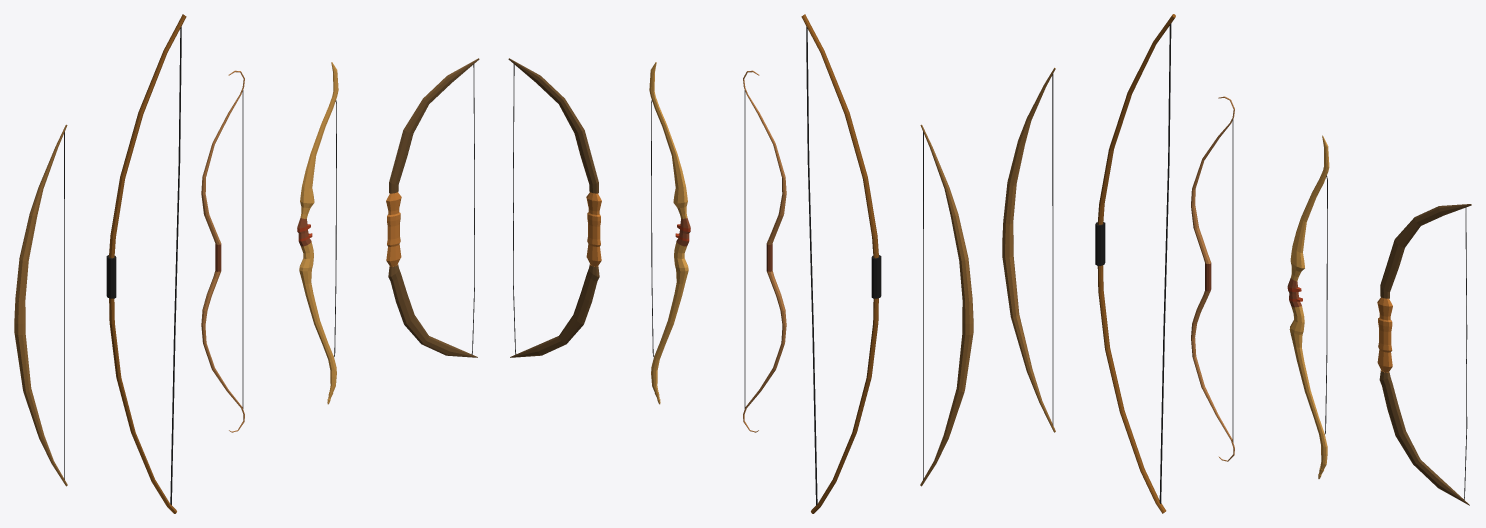
File: Bows Pack.fbx
The picture shows the model from 3 angles, left to right: view 1: azimuth 30°, elevation 25°; view 2: azimuth 150°, elevation 25°; view 3: azimuth 330°, elevation 25°; orthographic projection.
Parts seen in each view (by area): view 1: Bow 2, Bow 3, Bow 4, Bow 1, Bow 5; view 2: Bow 2, Bow 3, Bow 4, Bow 1, Bow 5; view 3: Bow 2, Bow 3, Bow 4, Bow 1, Bow 5.
Boxes of the visible parts, x1,y1,x2,y2 form: Bow 2: (386, 58, 479, 357); Bow 3: (106, 14, 186, 513); Bow 4: (14, 124, 67, 486); Bow 1: (297, 62, 338, 404); Bow 5: (201, 70, 244, 432); Bow 2: (508, 58, 601, 357); Bow 3: (801, 14, 881, 513); Bow 4: (920, 124, 973, 486); Bow 1: (649, 62, 690, 404); Bow 5: (743, 70, 786, 432); Bow 2: (1377, 204, 1471, 505); Bow 3: (1095, 14, 1175, 513); Bow 4: (1002, 67, 1055, 432); Bow 1: (1287, 135, 1329, 478); Bow 5: (1191, 96, 1234, 461).
Bounding box in the file's own units: 156 × 159 × 3.36.
